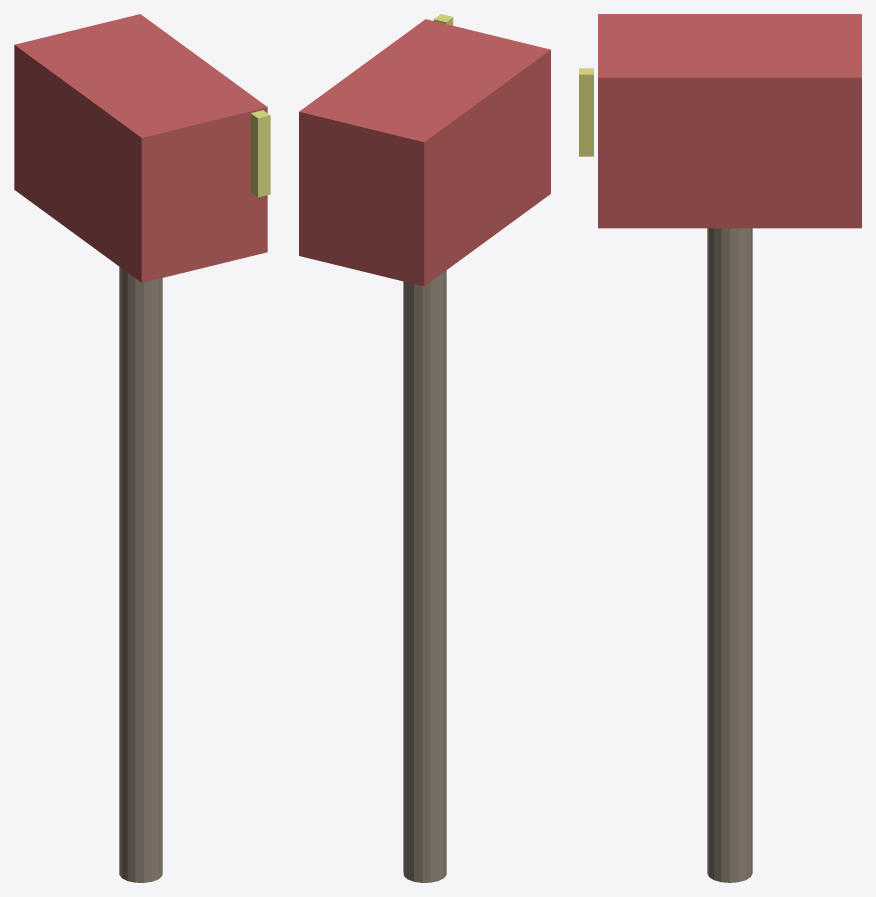
Rendered from mailbox.glb.
The picture shows the model from 3 angles, left to right: view 1: azimuth 30°, elevation 25°; view 2: azimuth 150°, elevation 25°; view 3: azimuth 270°, elevation 25°; orthographic projection. The views are drawn at different scales.
Parts seen in each view (by area): view 1: box, post, flag; view 2: box, post; view 3: box, post, flag.
Boxes of the visible parts, bbox=[...] form: box: bbox=[14, 14, 267, 282]; post: bbox=[119, 267, 162, 882]; flag: bbox=[250, 110, 270, 197]; box: bbox=[299, 19, 550, 286]; post: bbox=[403, 270, 446, 882]; box: bbox=[598, 14, 861, 228]; post: bbox=[707, 228, 752, 882]; flag: bbox=[579, 68, 593, 156].
Size of the model in its own units: 0.2 by 1.21 by 0.375.
